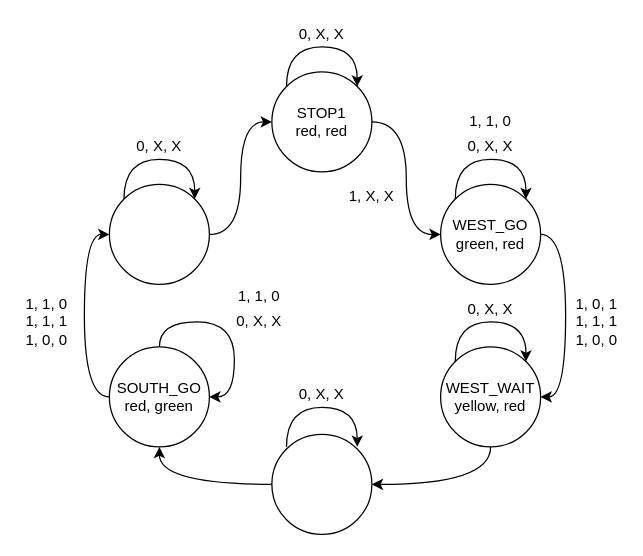
This 643x556 diagram has some shape labels left out. The centre of each missing label's shape, as x and y in pixels:
"SOUTH_WAIT red, yellow" goes at pixel 158 233.
"STOP2 red, red" goes at pixel 321 483.
